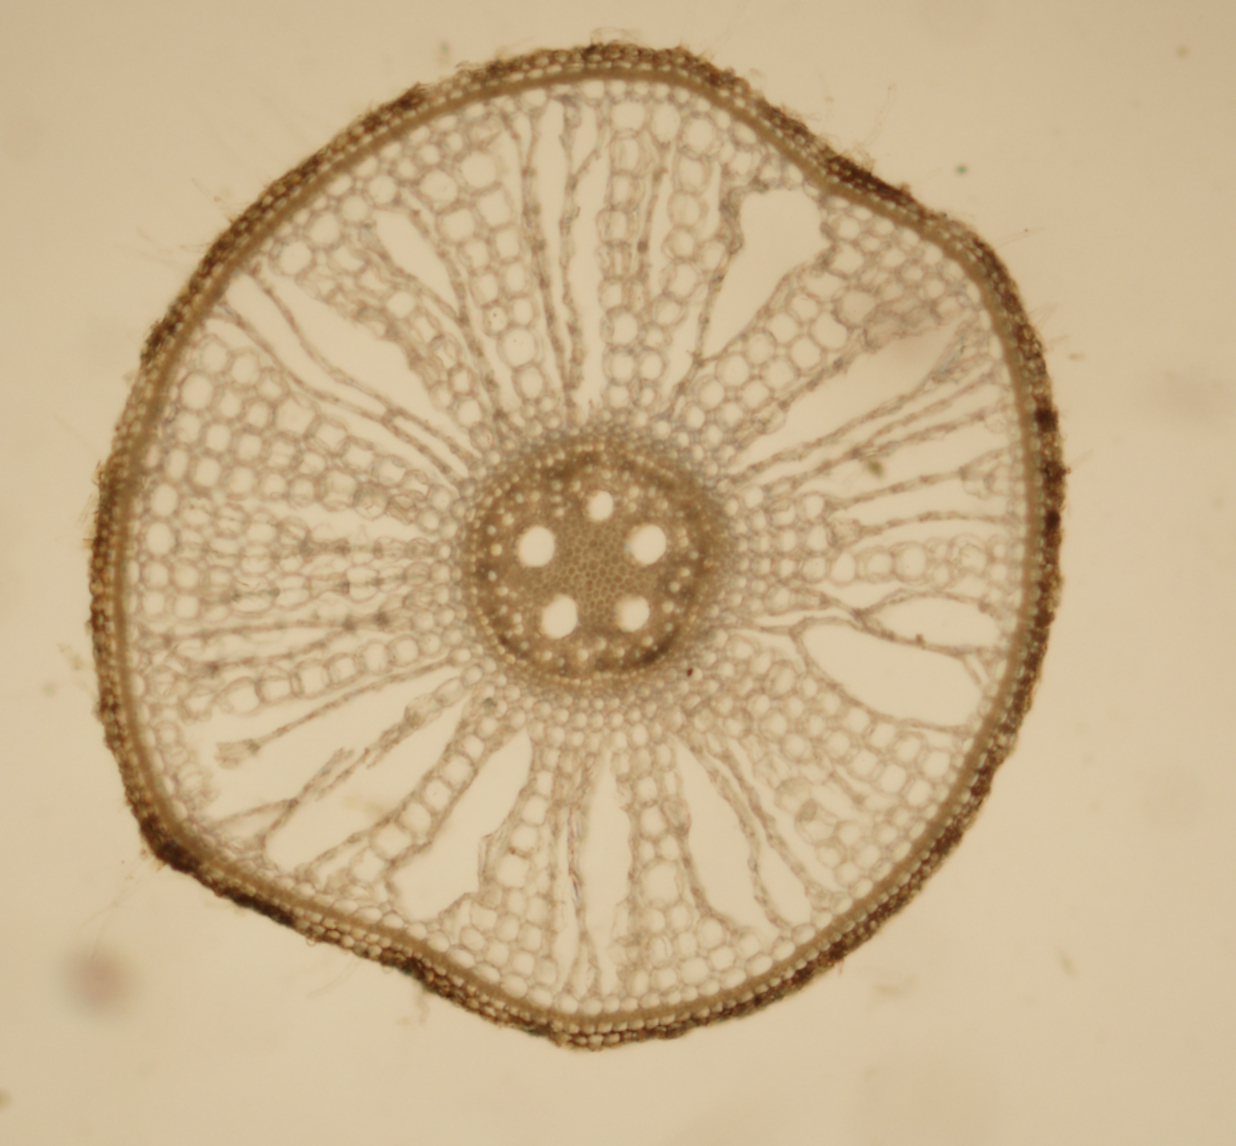lm: (515, 525, 556, 568), (540, 593, 578, 640), (626, 523, 666, 565), (613, 592, 649, 633), (585, 490, 614, 521)
